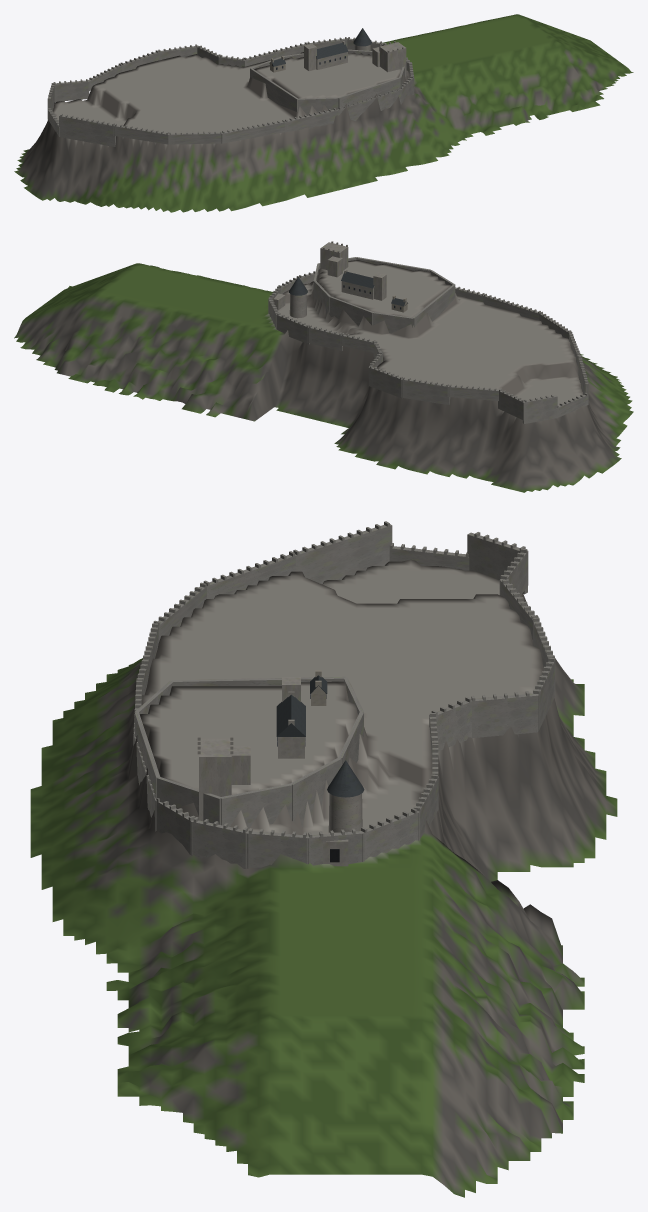
File: edinburgh-castle-b40.glb
3 views of the same model, one above another, from view 1: azimuth 30°, elevation 25°; view 2: azimuth 150°, elevation 25°; view 3: azimuth 270°, elevation 25° (orthographic). The views are drawn at different scales.
Size of the model in its own units: 48 by 8.6 by 21.6.
Materials: 8 (6 with a texture image).
